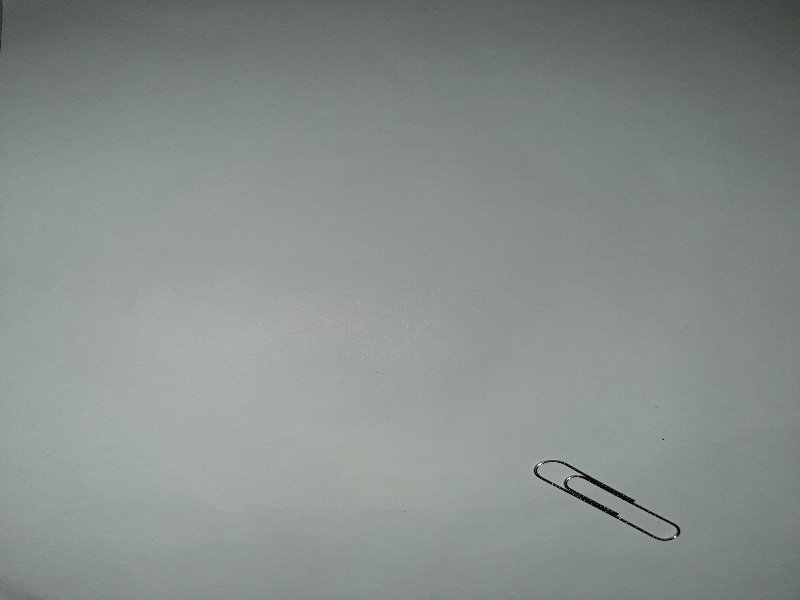Big Jumpclip: (532, 453, 687, 547)
